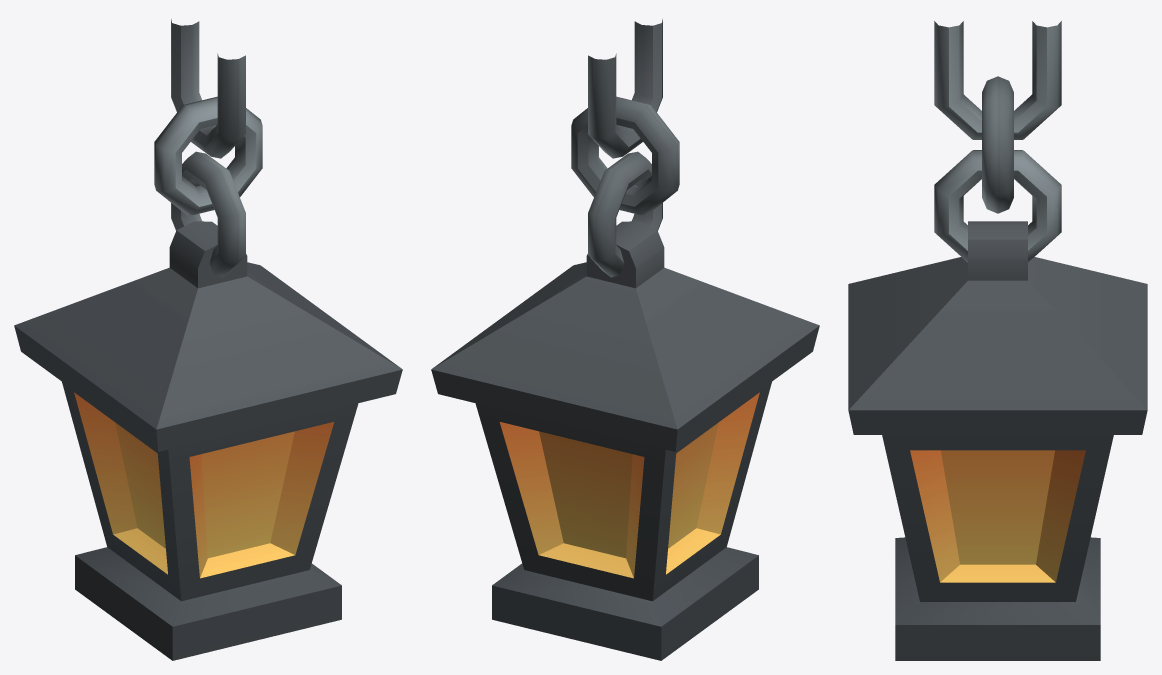
Rendered from lantern-hanging-kaylousberg.glb.
The picture shows the model from 3 angles, left to right: view 1: azimuth 30°, elevation 25°; view 2: azimuth 150°, elevation 25°; view 3: azimuth 270°, elevation 25°; orthographic projection. The views are drawn at different scales.
Visible parts, largest first — view 1: lantern_hanging; view 2: lantern_hanging; view 3: lantern_hanging.
Part boxes in pixels (x1,y1,x2,y2): lantern_hanging: (14,19,402,660); lantern_hanging: (431,19,819,660); lantern_hanging: (848,21,1147,660).
Bounding box in the file's own units: 0.64 × 1.41 × 0.64.
1 material, 1 textured.
